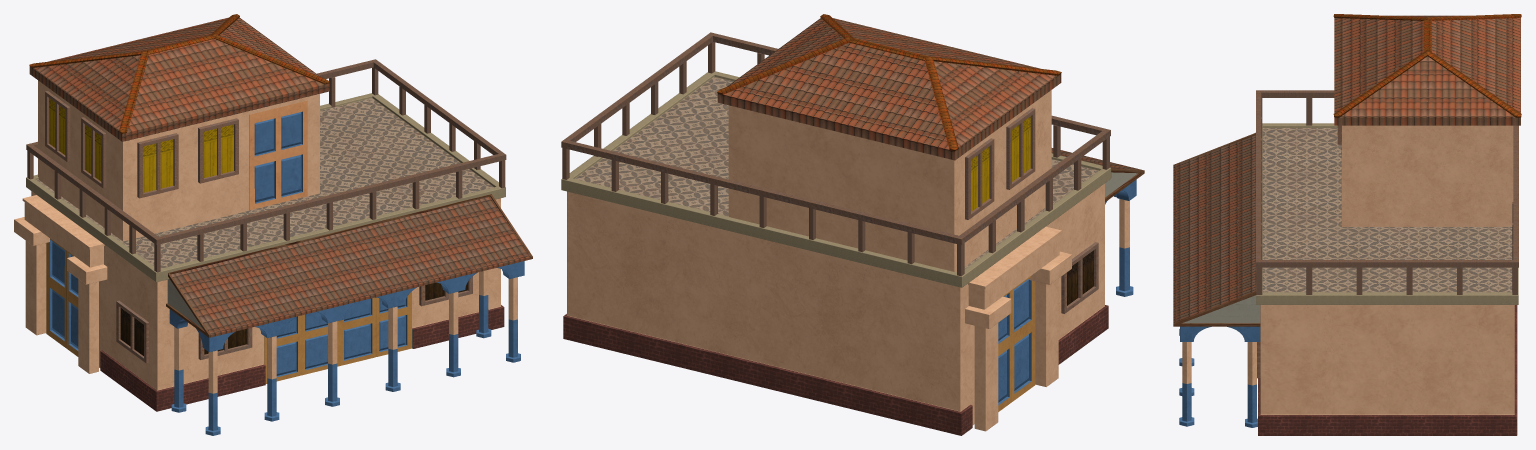
Rendered from RC_Small_Building_03.gltf.
The picture shows the model from 3 angles, left to right: view 1: azimuth 30°, elevation 25°; view 2: azimuth 150°, elevation 25°; view 3: azimuth 270°, elevation 25°; orthographic projection. The views are drawn at different scales.
Parts seen in each view (by area): view 1: RC_Small_Building_03_part1, RC_Small_Building_03_part12, RC_Small_Top_Building_03_Partt2, RC_Small_Top_Building_03_Partt1, RC_Small_Building_03_part11, RC_Small_Building_03_part5, RC_Small_Building_03_part8, RC_Small_Top_Building_03_Partt5, RC_Small_Building_03_part13, RC_Small_Building_03_part9, RC_Small_Building_03_part2, RC_Small_Building_03_part10 (+6 smaller); view 2: RC_Small_Building_03_part1, RC_Small_Top_Building_03_Partt1, RC_Small_Top_Building_03_Partt2, RC_Small_Building_03_part11, RC_Small_Building_03_part13, RC_Small_Building_03_part9, RC_Small_Building_03_part4, RC_Small_Top_Building_03_Partt3, RC_Small_Top_Building_03_Partt8, RC_Small_Top_Building_03_Partt6, RC_Small_Building_03_part2, RC_Small_Building_03_part5 (+1 smaller); view 3: RC_Small_Building_03_part1, RC_Small_Top_Building_03_Partt2, RC_Small_Top_Building_03_Partt1, RC_Small_Building_03_part12, RC_Small_Building_03_part11, RC_Small_Top_Building_03_Partt3, RC_Small_Building_03_part5, RC_Small_Building_03_part10.
Part boxes in pixels (bbox=[...]): RC_Small_Building_03_part1: bbox=[26, 93, 505, 411]; RC_Small_Building_03_part12: bbox=[166, 194, 532, 337]; RC_Small_Top_Building_03_Partt2: bbox=[29, 17, 329, 141]; RC_Small_Top_Building_03_Partt1: bbox=[38, 80, 319, 241]; RC_Small_Building_03_part11: bbox=[26, 59, 506, 272]; RC_Small_Building_03_part5: bbox=[171, 270, 520, 435]; RC_Small_Building_03_part8: bbox=[264, 291, 411, 383]; RC_Small_Top_Building_03_Partt5: bbox=[249, 100, 307, 210]; RC_Small_Building_03_part13: bbox=[14, 217, 107, 373]; RC_Small_Building_03_part9: bbox=[46, 238, 78, 356]; RC_Small_Building_03_part2: bbox=[116, 276, 472, 363]; RC_Small_Building_03_part10: bbox=[169, 261, 524, 352]; RC_Small_Building_03_part1: bbox=[561, 71, 1111, 435]; RC_Small_Top_Building_03_Partt1: bbox=[728, 90, 1051, 272]; RC_Small_Top_Building_03_Partt2: bbox=[717, 18, 1061, 160]; RC_Small_Building_03_part11: bbox=[561, 32, 1110, 276]; RC_Small_Building_03_part13: bbox=[965, 251, 1071, 431]; RC_Small_Building_03_part9: bbox=[998, 276, 1035, 411]; RC_Small_Building_03_part4: bbox=[968, 226, 1061, 309]; RC_Small_Top_Building_03_Partt3: bbox=[717, 14, 1061, 151]; RC_Small_Top_Building_03_Partt8: bbox=[1006, 108, 1035, 189]; RC_Small_Top_Building_03_Partt6: bbox=[965, 138, 994, 219]; RC_Small_Building_03_part2: bbox=[1061, 242, 1098, 313]; RC_Small_Building_03_part5: bbox=[1116, 199, 1133, 296]; RC_Small_Building_03_part1: bbox=[1256, 123, 1518, 435]; RC_Small_Top_Building_03_Partt2: bbox=[1334, 15, 1520, 125]; RC_Small_Top_Building_03_Partt1: bbox=[1342, 125, 1513, 226]; RC_Small_Building_03_part12: bbox=[1173, 132, 1260, 326]; RC_Small_Building_03_part11: bbox=[1256, 90, 1518, 294]; RC_Small_Top_Building_03_Partt3: bbox=[1333, 14, 1521, 117]; RC_Small_Building_03_part5: bbox=[1179, 329, 1257, 427]; RC_Small_Building_03_part10: bbox=[1180, 326, 1260, 341].
Size of the model in its own units: 12.81 by 9.34 by 10.42.
Materials: 30 (30 with a texture image).
